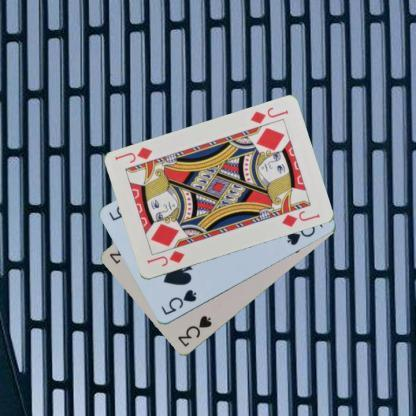3s: (175, 314, 213, 348)
5s: (158, 287, 198, 317)
Jd: (247, 104, 290, 126), (144, 248, 186, 268)
